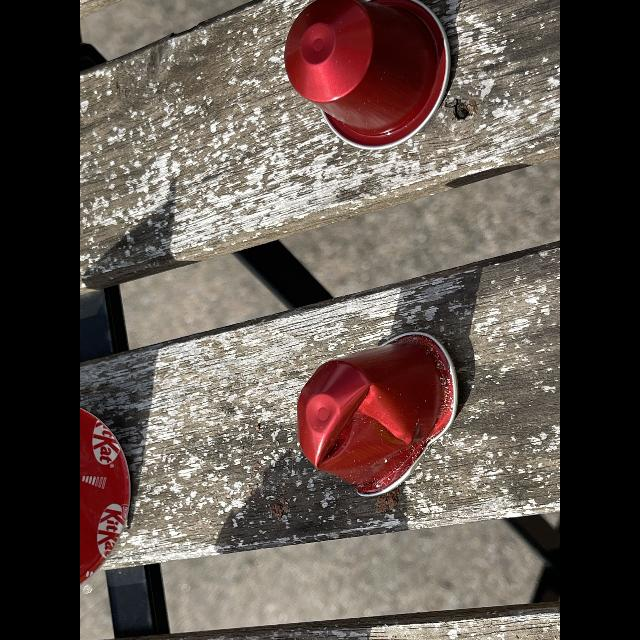damaged_capsule: (276, 319, 477, 516)
intact_capsule: (268, 0, 466, 156)
